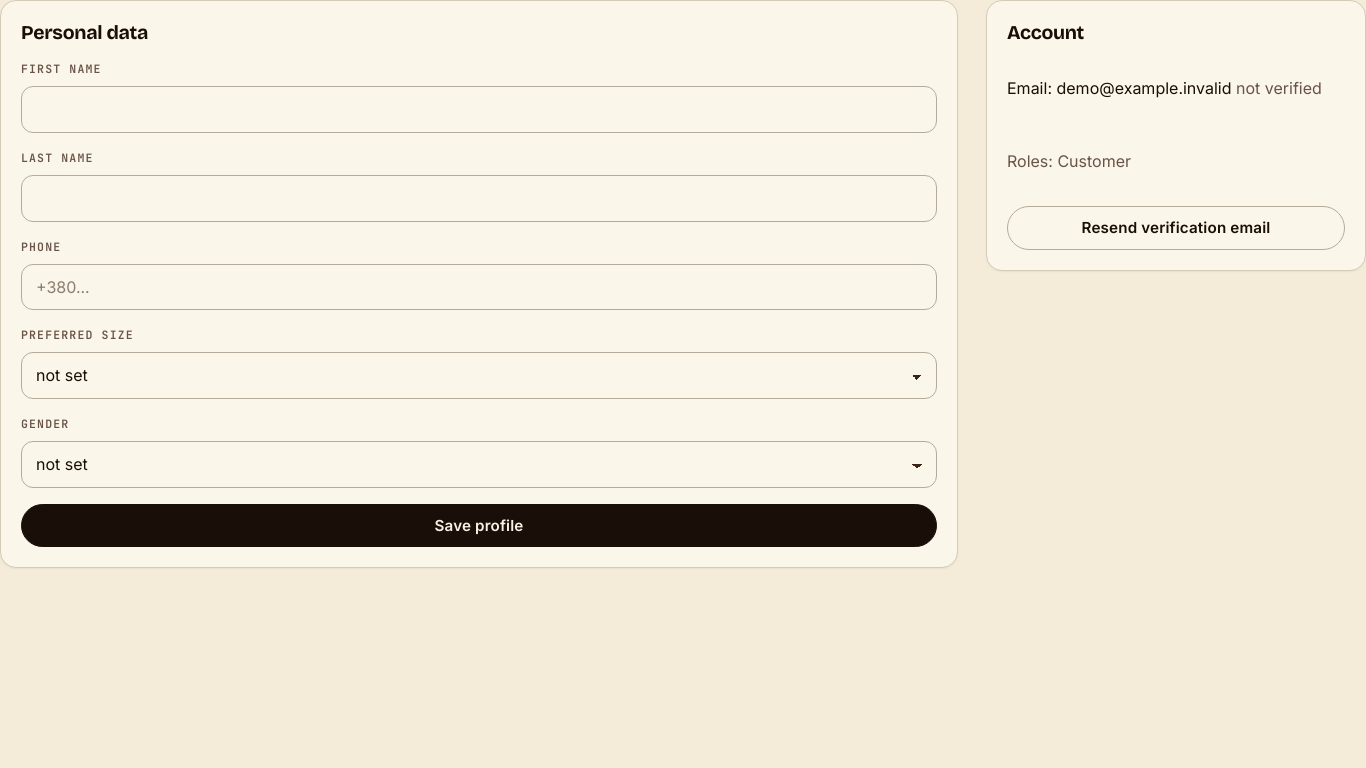
Test case: verification email availability › shows a 503 as an error without claiming the email was requested
Click the button "Resend verification email" at (1176, 228), box x1=1007 y1=206 x2=1345 y2=250
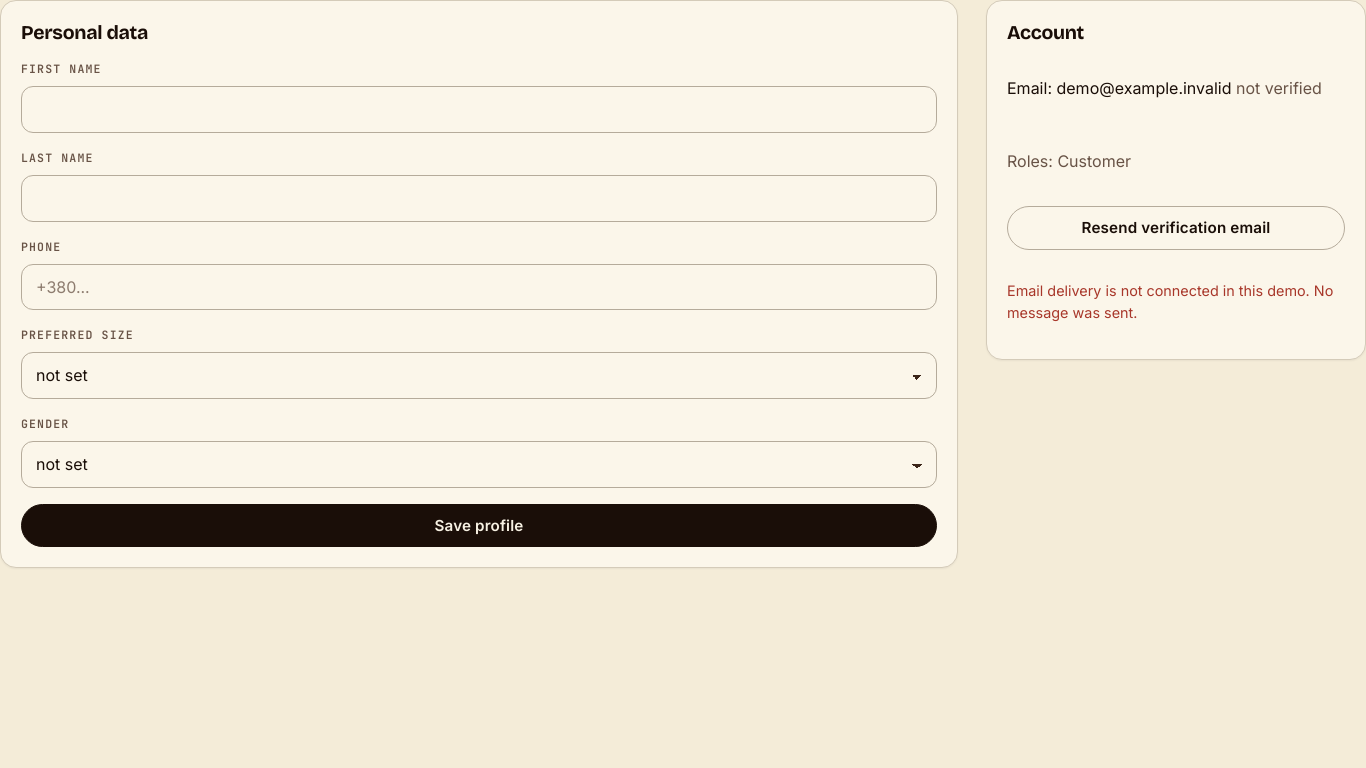
Now the message reads "Email delivery is not connected in this demo. No message was sent.", box x1=1007 y1=282 x2=1333 y2=321
